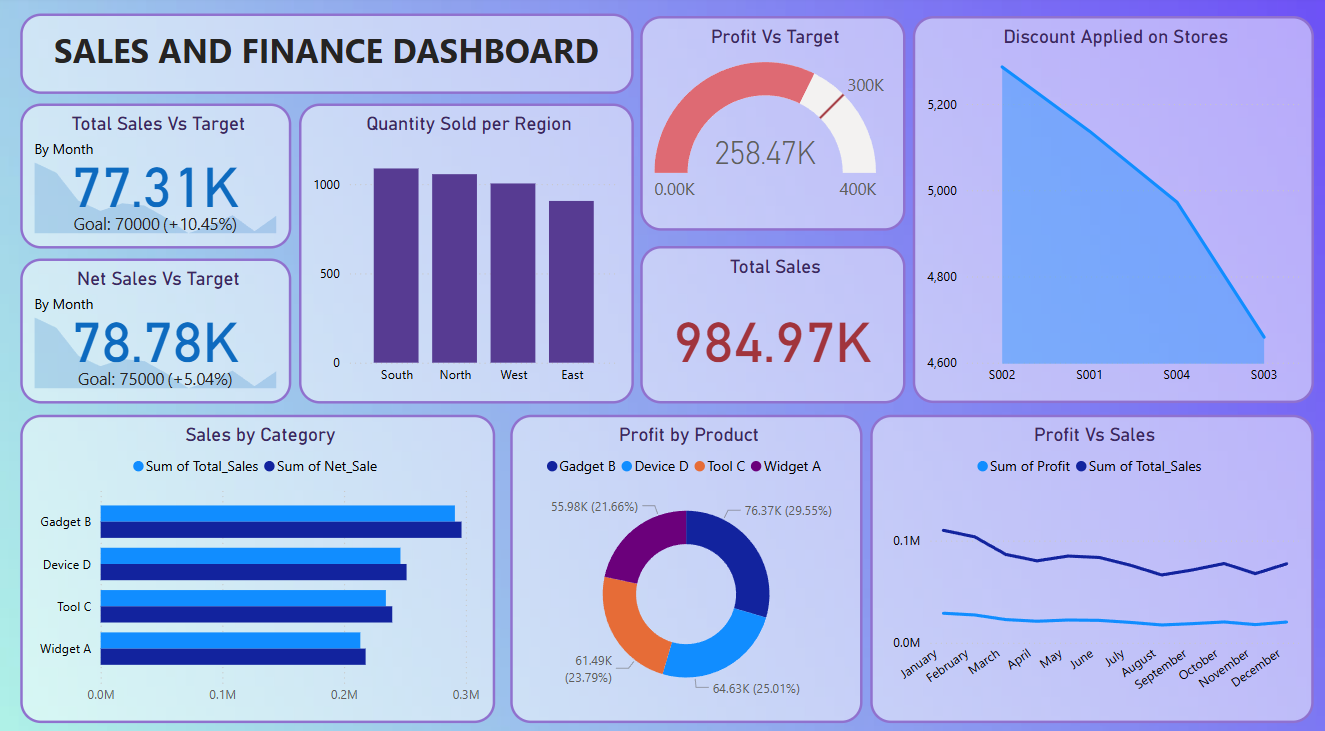

The dashboard page shown, as its layout file describes it:
{"tool":"powerbi","page":{"name":"Page 1","canvas":[1280,720],"ordinal":0},"visuals":[{"type":"textbox","box":[20.5,16.9,592.4,77.2],"z":0},{"type":"kpi","title":"Total Sales Vs Target","fields":{"Indicator":["Sum(Retail_Sales_Financials_2024.Total_Sales)"],"Goal":["Retail_Sales_Financials_2024.Total_Sales_Target"],"TrendLine":["Retail_Sales_Financials_2024.Date.Variation.Date Hierarchy.Month"]},"box":[20.5,103.8,261.8,139.9],"z":1000},{"type":"kpi","title":"Net Sales Vs Target","fields":{"Goal":["Retail_Sales_Financials_2024.Net_Sale_Target"],"TrendLine":["Retail_Sales_Financials_2024.Date.Variation.Date Hierarchy.Month"],"Indicator":["Sum(Retail_Sales_Financials_2024.Net_Sale)"]},"box":[20.5,253.4,261.8,139.9],"z":2000},{"type":"donutChart","title":"Profit by Product","fields":{"Category":["Retail_Sales_Financials_2024.Product_Name"],"Y":["Sum(Retail_Sales_Financials_2024.Profit)"]},"box":[493.4,404.2,340.2,298],"z":3000},{"type":"clusteredBarChart","title":"Sales by Category","fields":{"Category":["Retail_Sales_Financials_2024.Product_Name"],"Y":["Sum(Retail_Sales_Financials_2024.Total_Sales)","Sum(Retail_Sales_Financials_2024.Net_Sale)"]},"box":[20.5,404.2,458.4,298],"z":4000},{"type":"clusteredColumnChart","title":"Quantity Sold per Region","fields":{"Category":["Retail_Sales_Financials_2024.Region"],"Y":["Sum(Retail_Sales_Financials_2024.Quantity_Sold)"]},"box":[289.5,103.8,323.3,289.5],"z":5000},{"type":"gauge","title":"Profit Vs Target","fields":{"Y":["Sum(Retail_Sales_Financials_2024.Profit)"],"MaxValue":["Retail_Sales_Financials_2024.Max_Val"],"TargetValue":["Retail_Sales_Financials_2024.Profit_Target"]},"box":[618.9,19.3,255.8,207.5],"z":6000},{"type":"lineChart","title":"Profit Vs Sales","fields":{"Category":["Retail_Sales_Financials_2024.Date.Variation.Date Hierarchy.Month"],"Y":["Sum(Retail_Sales_Financials_2024.Profit)","Sum(Retail_Sales_Financials_2024.Total_Sales)"]},"box":[840.9,404.2,428.3,298],"z":7000},{"type":"areaChart","title":"Discount Applied on Stores","fields":{"Category":["Retail_Sales_Financials_2024.Store_ID"],"Y":["Sum(Retail_Sales_Financials_2024.Discount_Applied)"]},"box":[881.9,19.3,387.3,374],"z":8000},{"type":"card","title":"Total Sales","fields":{"Values":["Sum(Retail_Sales_Financials_2024.Total_Sales)"]},"box":[618.9,241.3,255.8,152],"z":9000}]}

Visuals, with their boxes in screenshot pixels (x1, y1, x2, y2), scaled from the page's 1280x720 canvas onto the 1325x731 screenshot:
textbox: {"x1": 21, "y1": 17, "x2": 634, "y2": 96}
"Total Sales Vs Target" kpi: {"x1": 21, "y1": 105, "x2": 292, "y2": 247}
"Net Sales Vs Target" kpi: {"x1": 21, "y1": 257, "x2": 292, "y2": 399}
"Profit by Product" donutChart: {"x1": 511, "y1": 410, "x2": 863, "y2": 713}
"Sales by Category" clusteredBarChart: {"x1": 21, "y1": 410, "x2": 496, "y2": 713}
"Quantity Sold per Region" clusteredColumnChart: {"x1": 300, "y1": 105, "x2": 634, "y2": 399}
"Profit Vs Target" gauge: {"x1": 641, "y1": 20, "x2": 905, "y2": 230}
"Profit Vs Sales" lineChart: {"x1": 870, "y1": 410, "x2": 1314, "y2": 713}
"Discount Applied on Stores" areaChart: {"x1": 913, "y1": 20, "x2": 1314, "y2": 399}
"Total Sales" card: {"x1": 641, "y1": 245, "x2": 905, "y2": 399}
